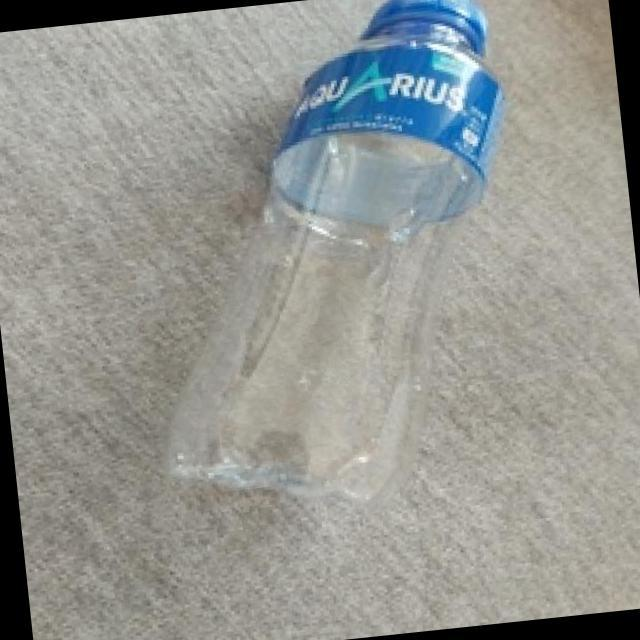good: (114, 0, 557, 525)
